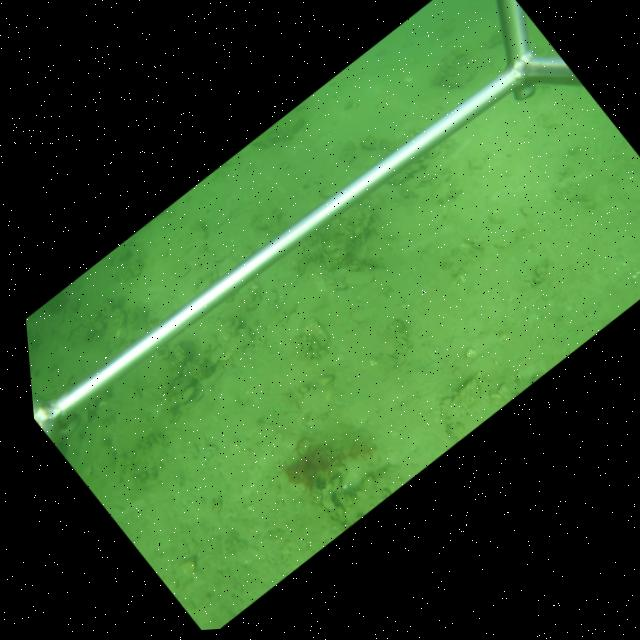Oyster-Closed: (302, 315, 334, 348), (343, 268, 374, 289), (165, 376, 195, 397)
Oyster-Indeterminate: (217, 316, 241, 344)
